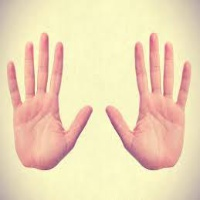ring: (20, 40, 40, 103), (162, 39, 181, 104)
